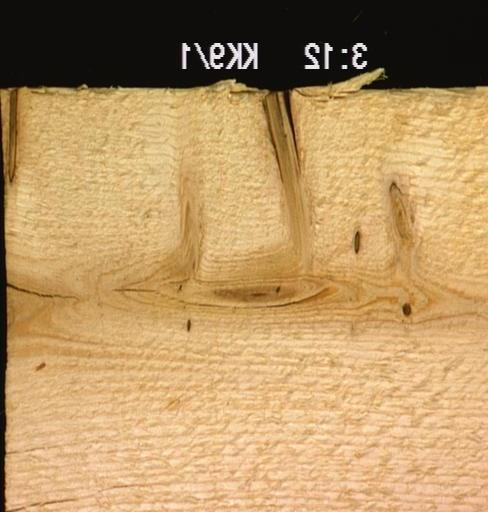dry_knot: (262, 89, 318, 259), (7, 87, 19, 183), (400, 300, 412, 318)
split: (7, 280, 80, 300), (109, 285, 162, 294)
